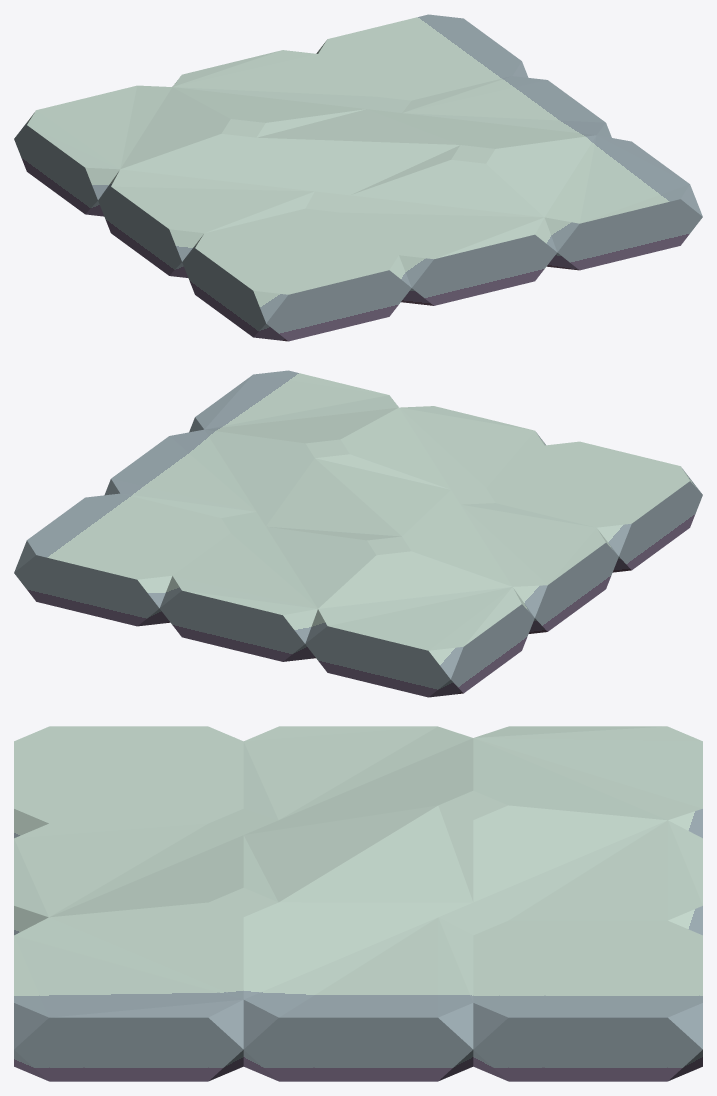
Rendered from Tiles 1.001.fbx.
3 renders of one model, top to bottom at view 1: azimuth 30°, elevation 25°; view 2: azimuth 150°, elevation 25°; view 3: azimuth 270°, elevation 25°, orthographic. The views are drawn at different scales.
Parts seen in each view (by area): view 1: Tiles 1.001; view 2: Tiles 1.001; view 3: Tiles 1.001.
Boxes of the visible parts, box(x1,y1,x2,y2) form: Tiles 1.001: box(14, 14, 702, 341); Tiles 1.001: box(14, 370, 702, 697); Tiles 1.001: box(14, 726, 702, 1081).
Bounding box in the file's own units: 495 × 64.97 × 495.
